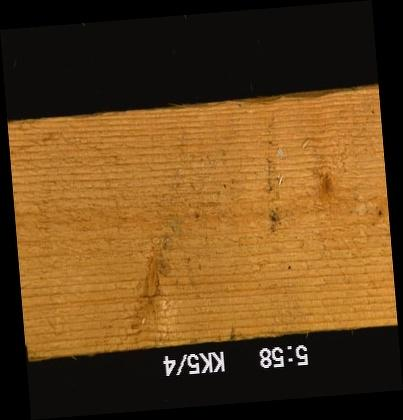small_knot: (309, 165, 340, 213), (373, 206, 388, 221), (190, 208, 204, 224)
